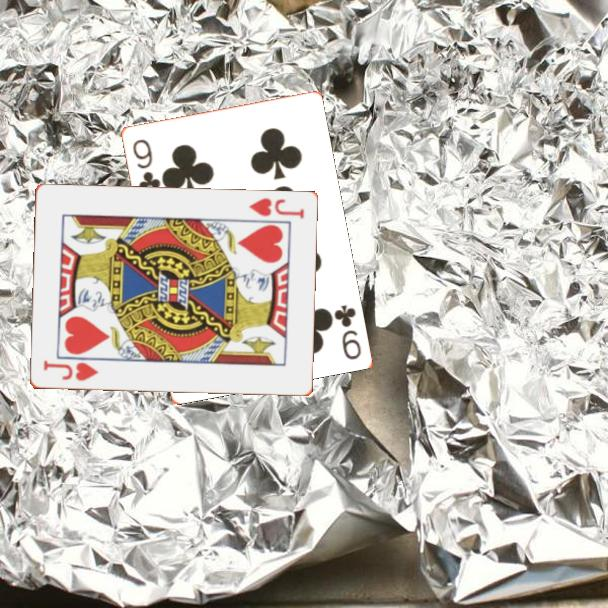c09: (129, 135, 163, 196), (330, 301, 364, 362)
h11: (245, 195, 307, 222), (40, 357, 101, 384)
